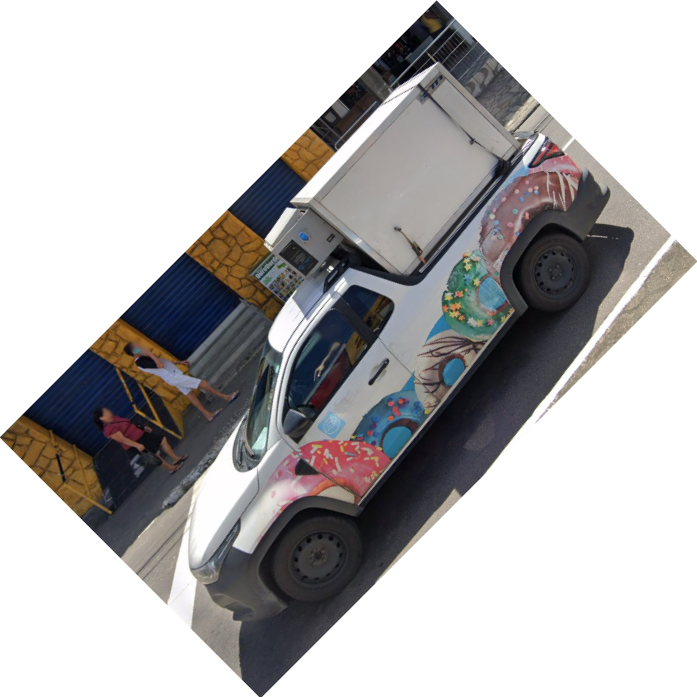car: (184, 135, 615, 622)
